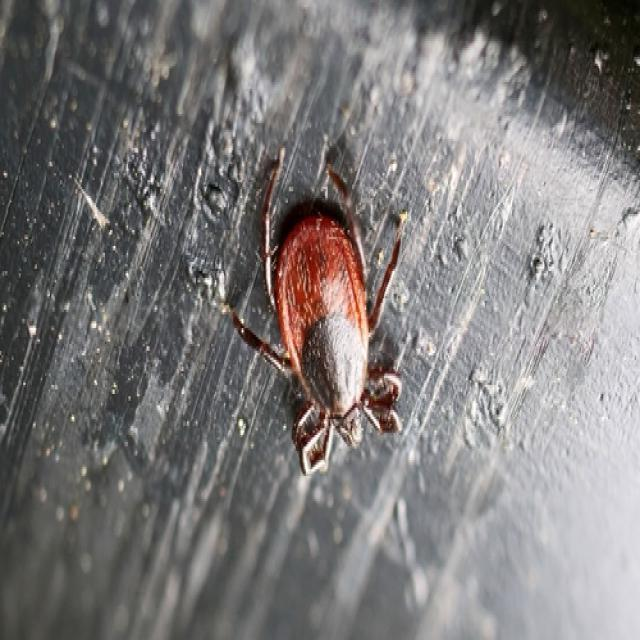Ixodes Ricinus-F: (221, 143, 408, 474)
